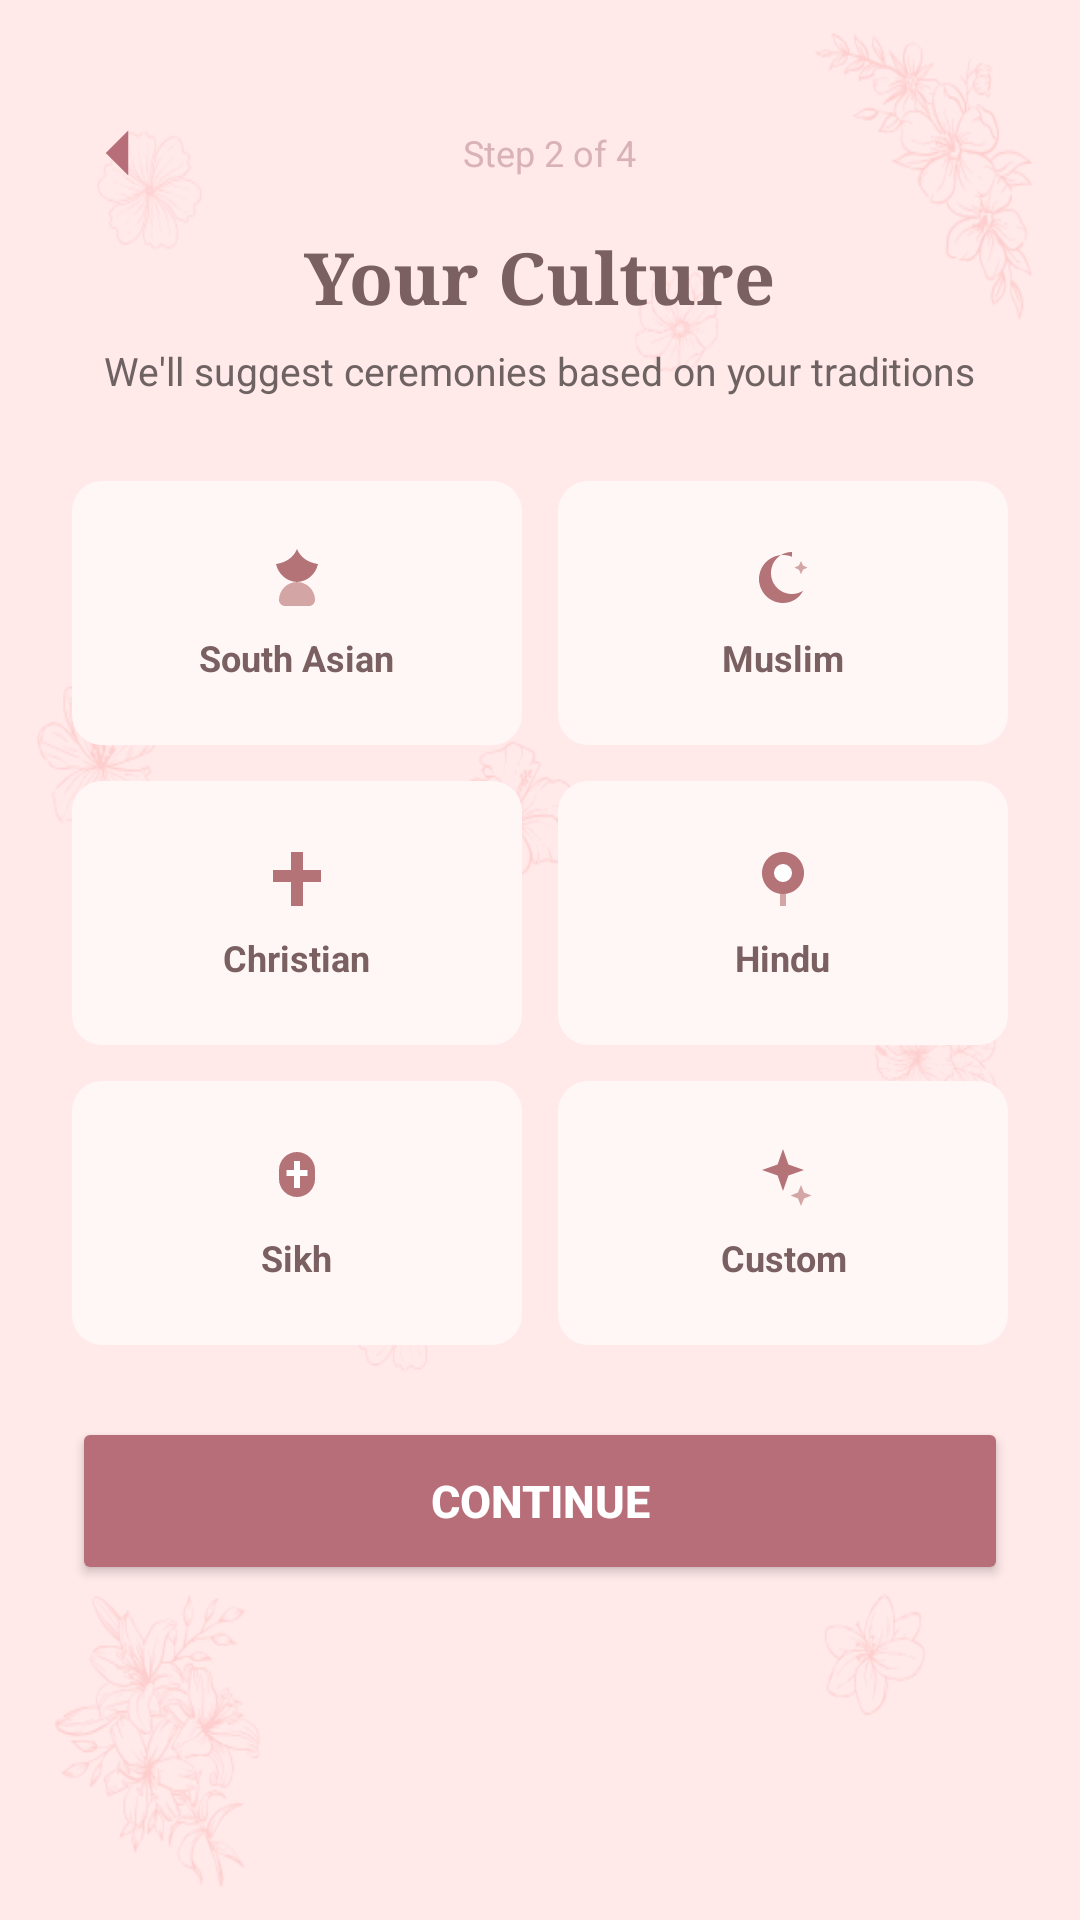

Named icons in this screenshot (1080x1920) and their centers, (x,y):
Back: (117,153)
